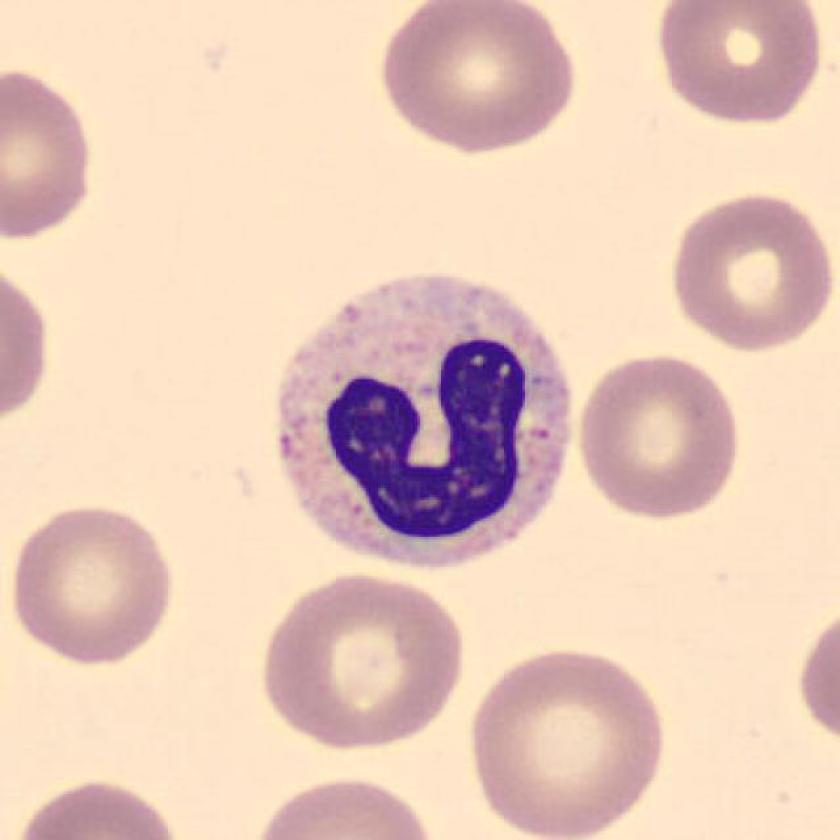neutrophil: (278, 277, 576, 564)
